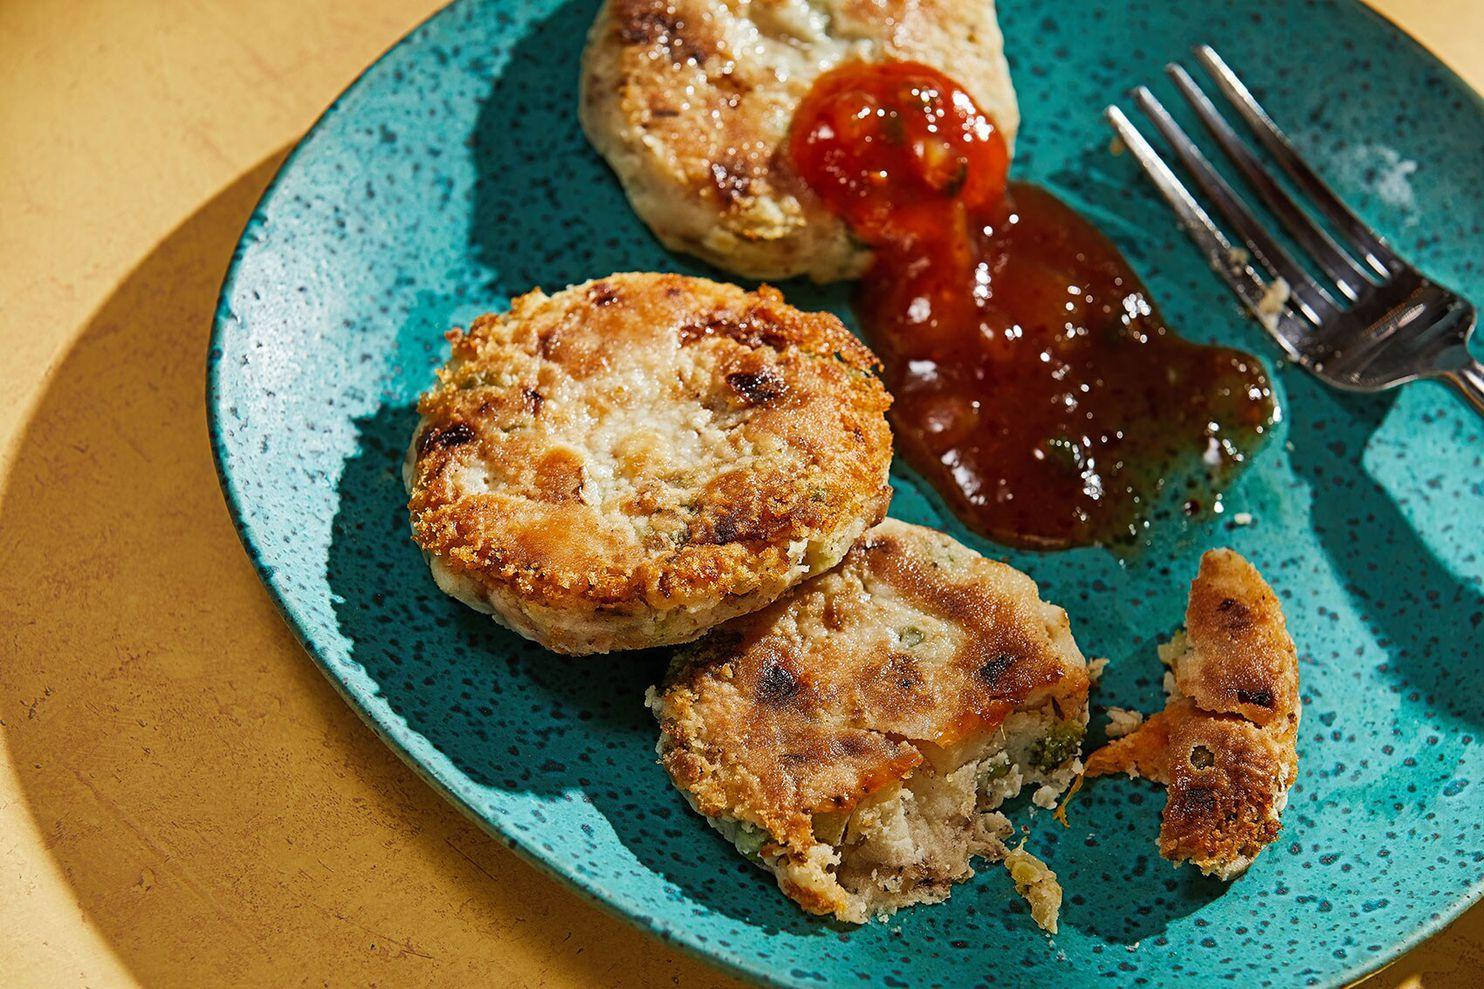momos: (403, 273, 893, 653)
